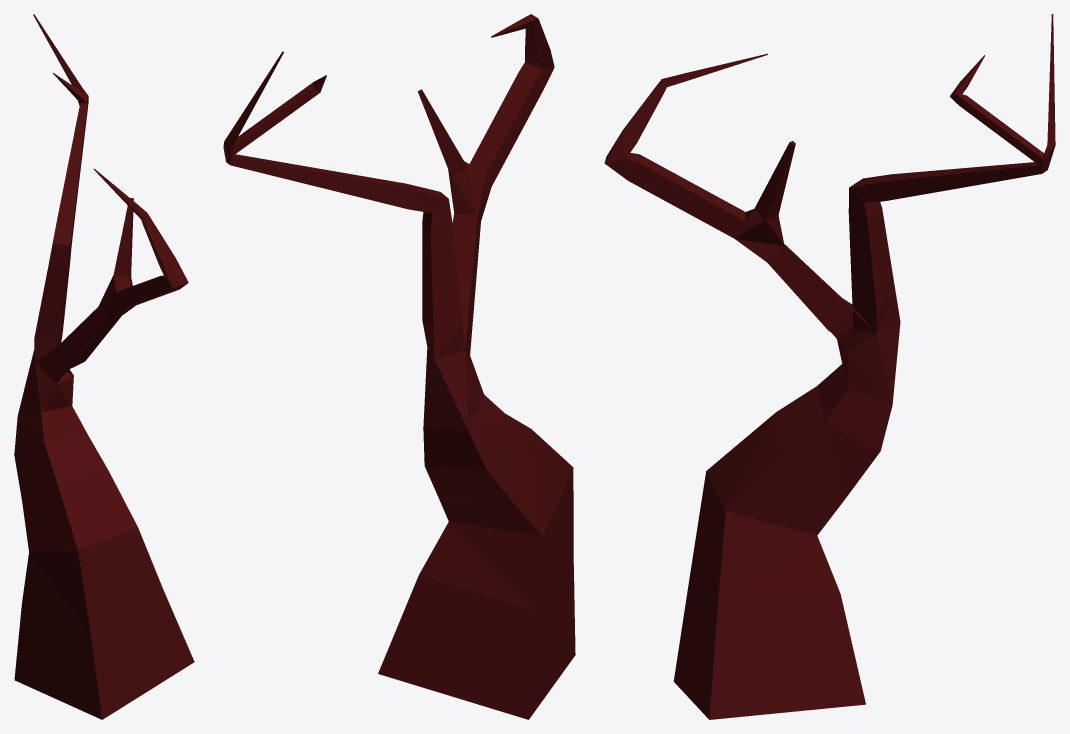
The model's file is lowpolydeadtree2.obj.
3 renders of one model, left to right at view 1: azimuth 30°, elevation 25°; view 2: azimuth 150°, elevation 25°; view 3: azimuth 270°, elevation 25°, orthographic. The views are drawn at different scales.
Parts seen in each view (by area): view 1: Cube; view 2: Cube; view 3: Cube.
Part boxes in pixels (x1=…): Cube: x1=14, y1=14, x2=194, y2=719; Cube: x1=223, y1=14, x2=575, y2=719; Cube: x1=604, y1=14, x2=1055, y2=719.
Size of the model in its own units: 0.4521 by 1.56 by 0.8854.
